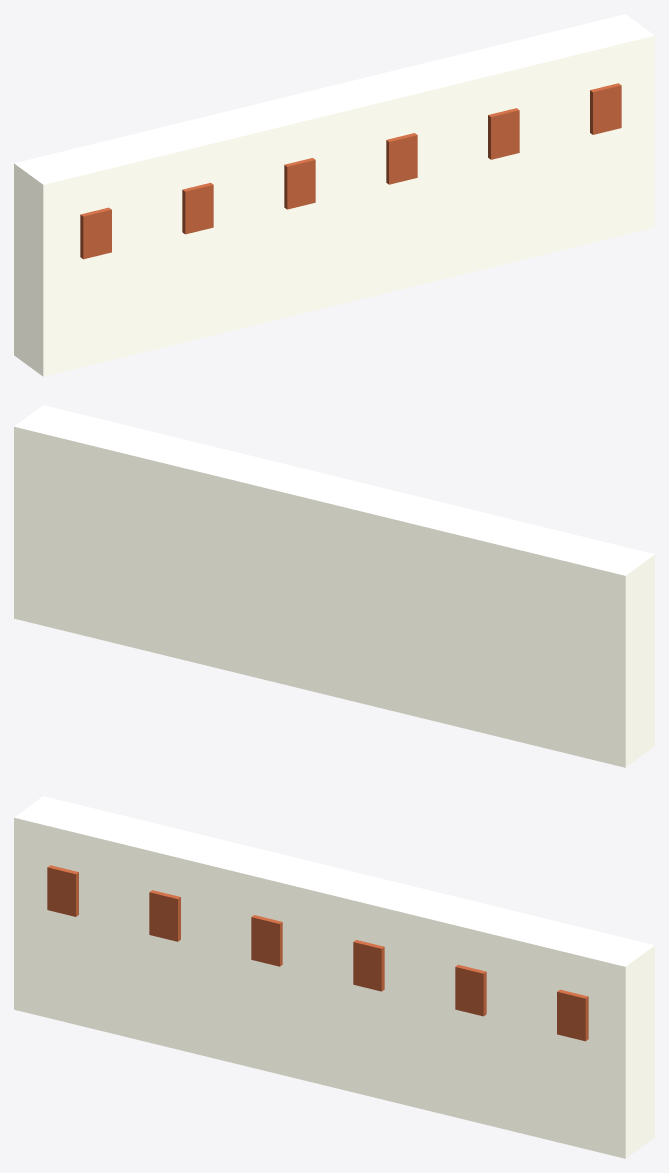
Rendered from endurance-and-gt-paddock-reflective-barrier-e51a441c__14888.glb.
The picture shows the model from 3 angles, top to bottom: view 1: azimuth 30°, elevation 25°; view 2: azimuth 150°, elevation 25°; view 3: azimuth 330°, elevation 25°; orthographic projection.
Parts seen in each view (by area): view 1: reflective-barrier; view 2: reflective-barrier; view 3: reflective-barrier.
Part boxes in pixels (x1,y1,x2,y2): reflective-barrier: (14,14,654,376); reflective-barrier: (14,405,654,767); reflective-barrier: (14,796,654,1158).
Bounding box in the file's own units: 3 × 0.8999 × 0.2776.
